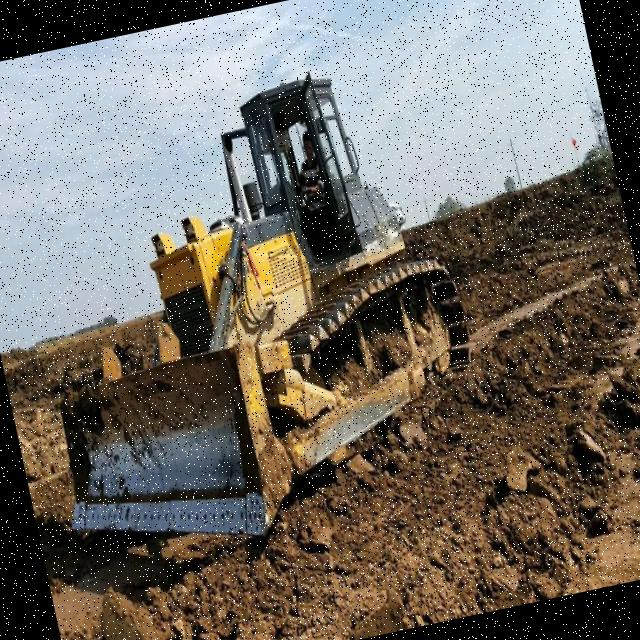Bulldozer: (0, 32, 539, 591)
